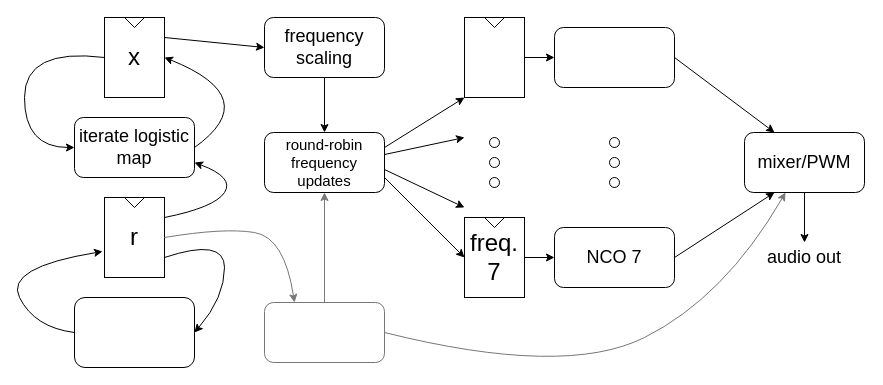
Image size: 883x385. Some labels were removed from this diagram. The shapes that lost their labels are listed below. From the top down, each one's centre as x and y in pixels, then its label:
the point at 494,57: freq. 0
the point at 614,57: NCO 0
the point at 134,332: slowly increment r over time
the point at 324,332: round-robin and mixer tweaks
